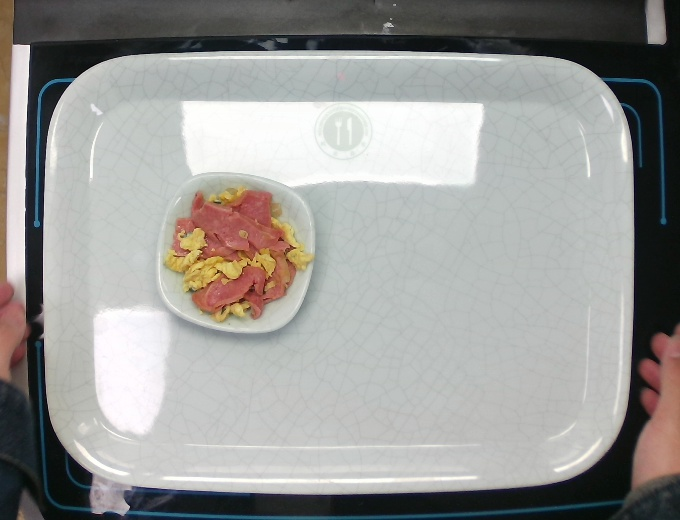JYsf-Si_Fang_Die: (155, 165, 318, 339)
